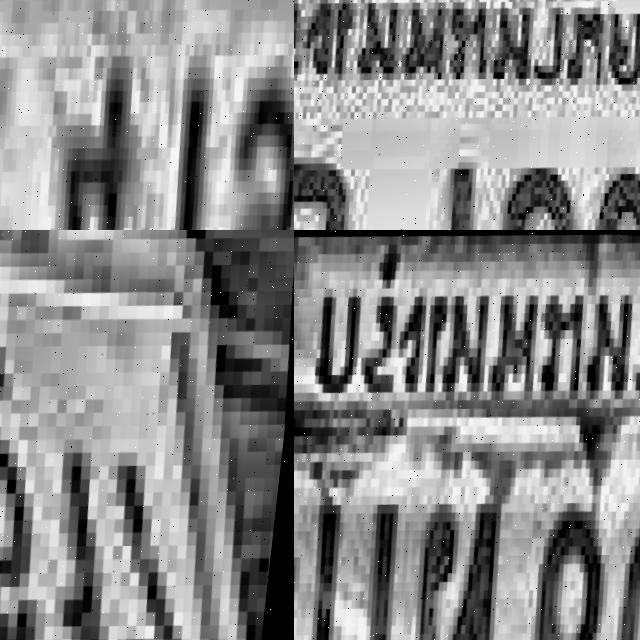license-plate: (294, 230, 640, 640), (0, 230, 294, 640), (294, 0, 640, 230), (0, 0, 294, 230)
